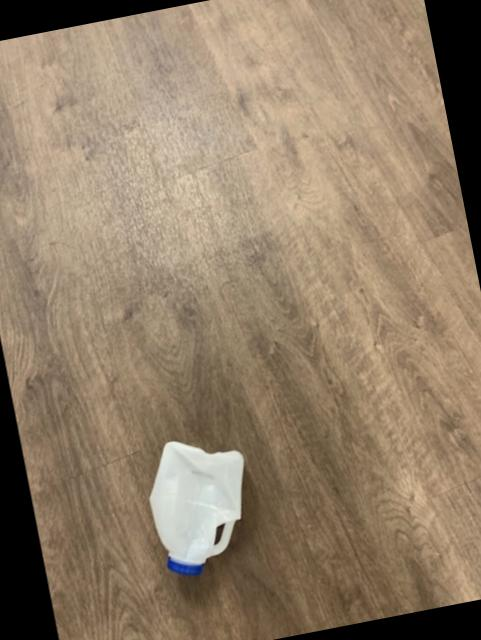plastic: (150, 440, 244, 574)
